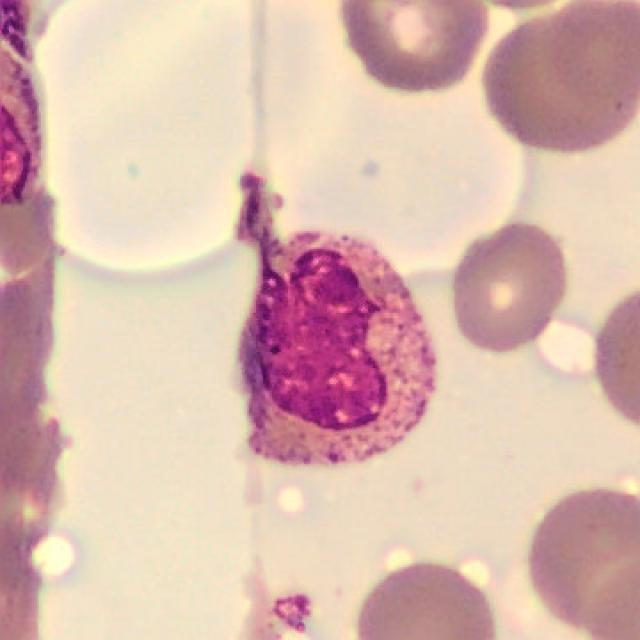Artefato: (238, 178, 437, 468)
